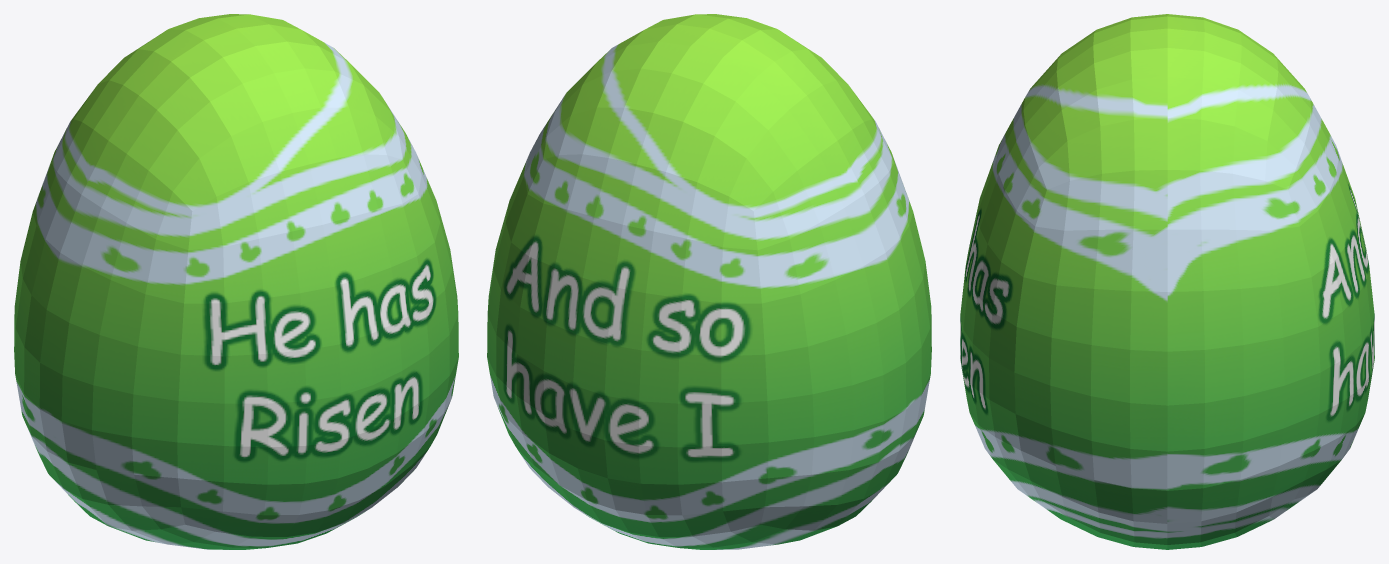
File: Egg_Risen.fbx
The picture shows the model from 3 angles, left to right: view 1: azimuth 30°, elevation 25°; view 2: azimuth 150°, elevation 25°; view 3: azimuth 270°, elevation 25°; orthographic projection.
Parts seen in each view (by area): view 1: Egg; view 2: Egg; view 3: Egg.
Boxes of the visible parts, x1=… form: Egg: x1=14, y1=14, x2=458, y2=549; Egg: x1=487, y1=14, x2=931, y2=549; Egg: x1=960, y1=14, x2=1374, y2=549.
Size of the model in its own units: 210 by 256 by 195.
1 material, 1 textured.
